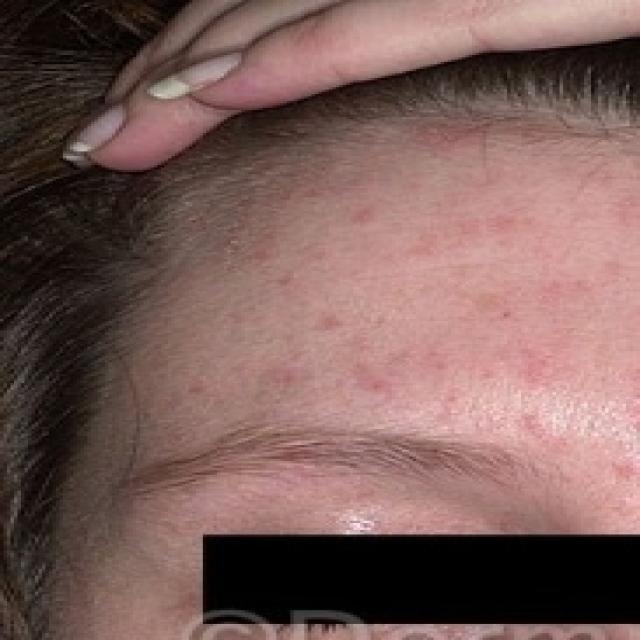Rosacea: (168, 129, 599, 419)
